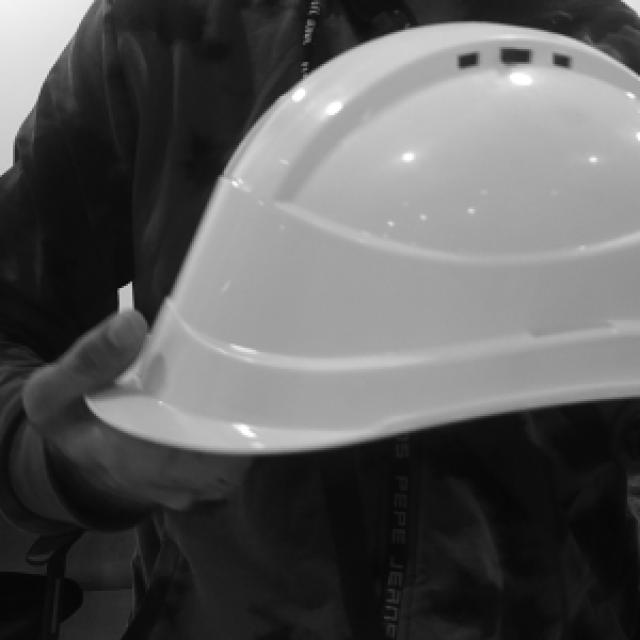safety_helmet: (83, 21, 640, 459)
